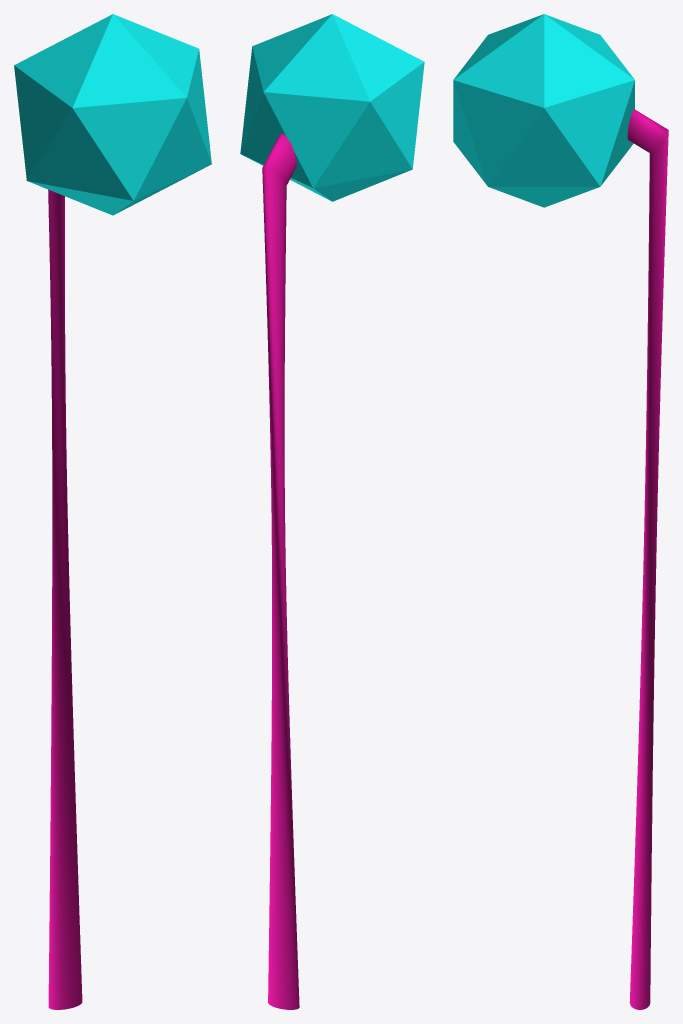
Rendered from Light.fbx.
3 views of the same model, side by side, from view 1: azimuth 30°, elevation 25°; view 2: azimuth 150°, elevation 25°; view 3: azimuth 270°, elevation 25° (orthographic). The views are drawn at different scales.
Visible parts, largest first — view 1: Icosphere; view 2: Icosphere; view 3: Icosphere.
Boxes of the visible parts, x1,y1,x2,y2 form: Icosphere: (14,14,211,1009); Icosphere: (240,14,424,1009); Icosphere: (453,14,668,1009).
Size of the model in its own units: 102 by 584 by 115.
